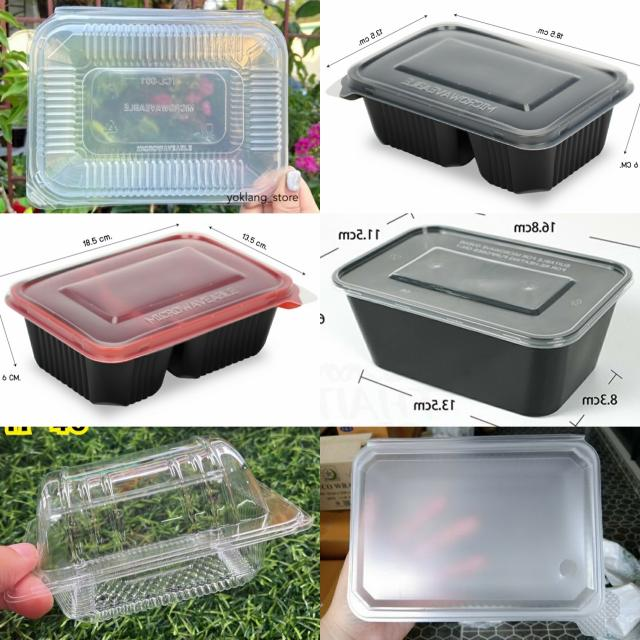Single-Use-Plastic: (333, 226, 632, 416), (28, 6, 288, 208), (328, 24, 633, 193), (36, 436, 311, 621), (8, 235, 300, 404), (348, 435, 603, 621)
